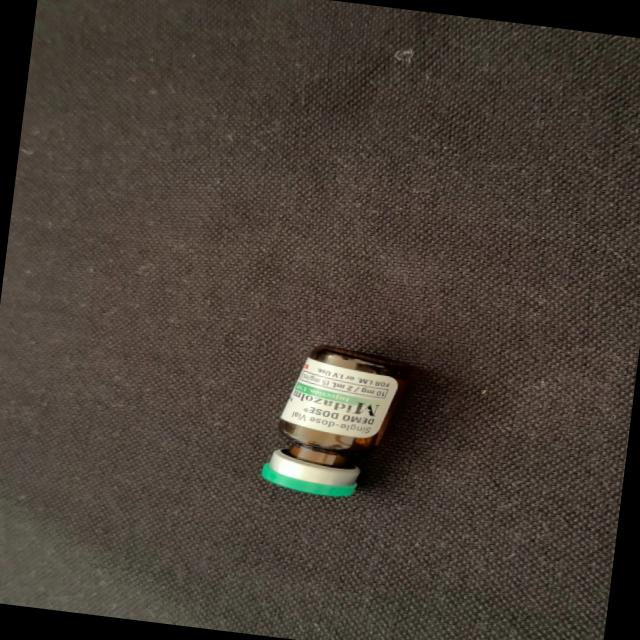midazolm: (260, 342, 411, 501)
